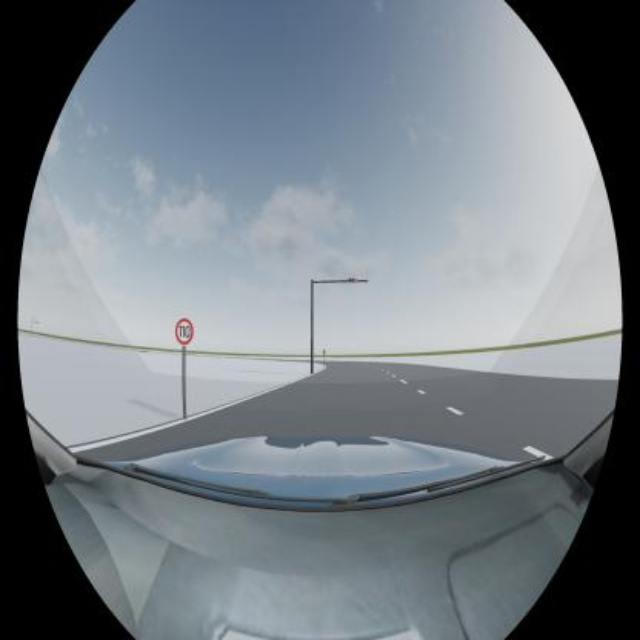Tốc độ tối đa cho phép 110km/h: (175, 318, 194, 346)
Đèn đỏ: (348, 277, 358, 283)
